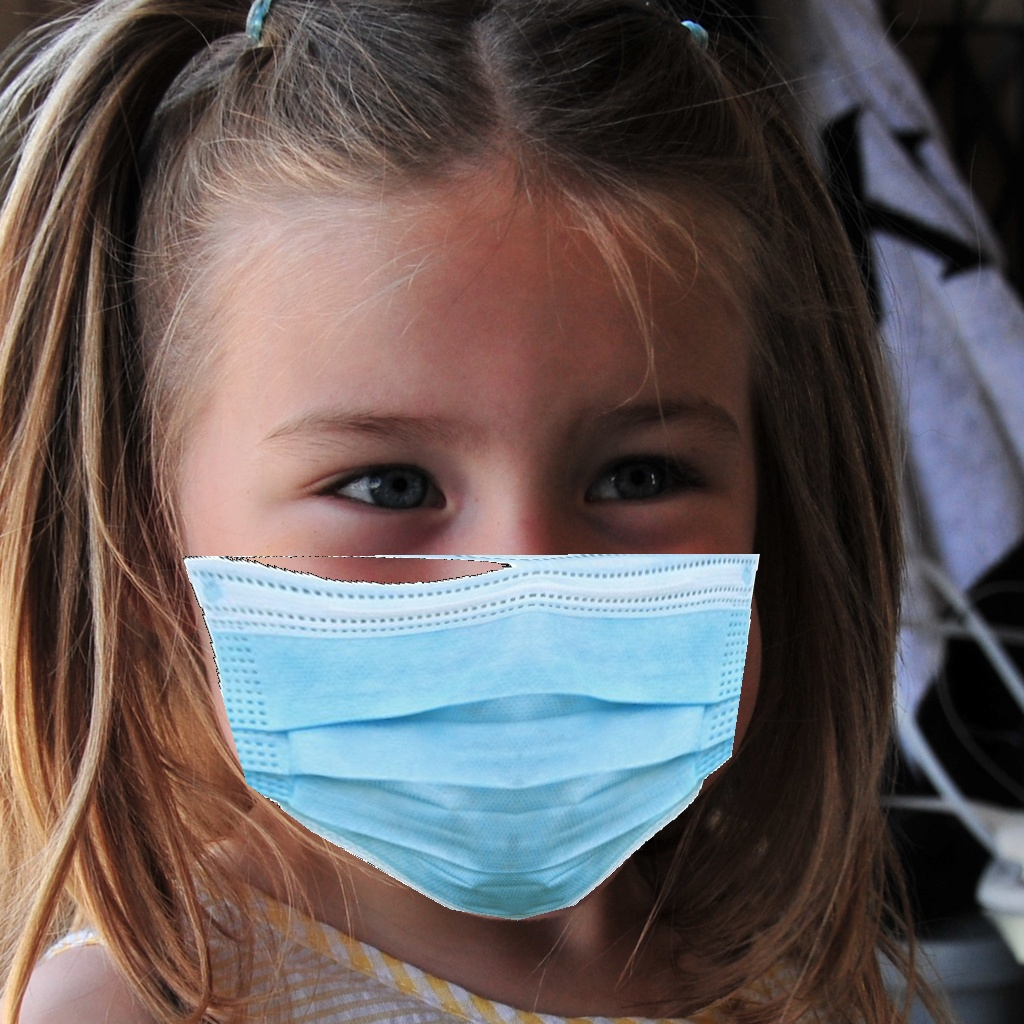with_mask: (216, 386, 778, 927)
